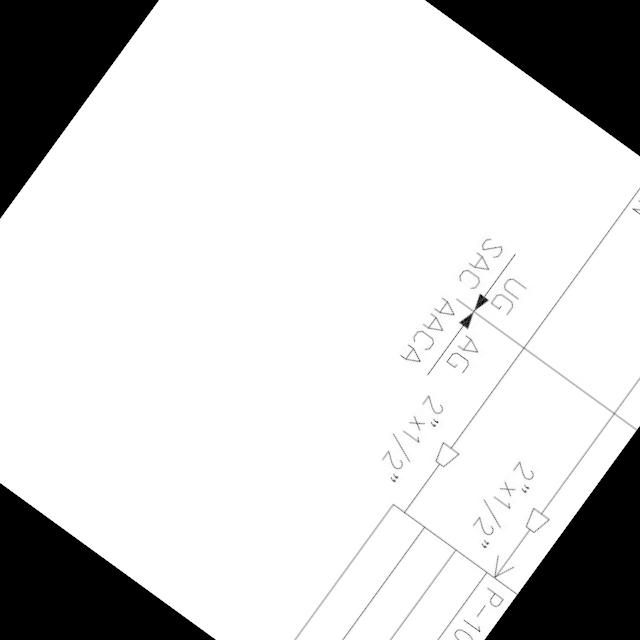SP: (514, 498, 556, 542), (424, 436, 466, 478)
